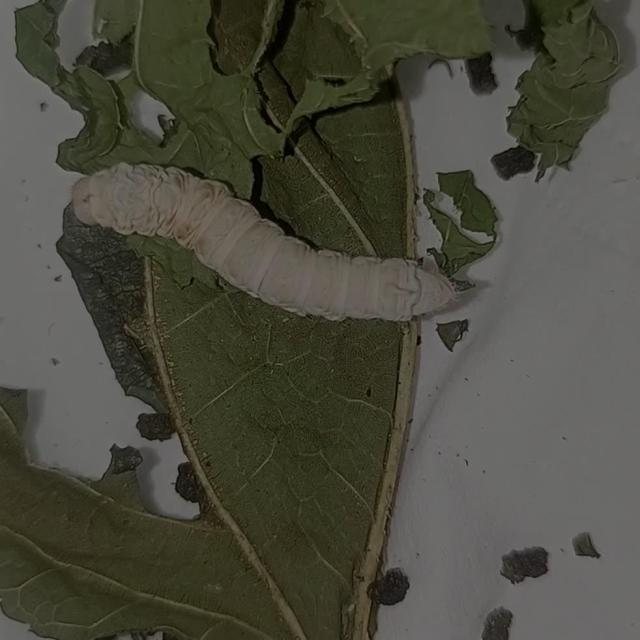Healthy: (57, 131, 473, 359)
